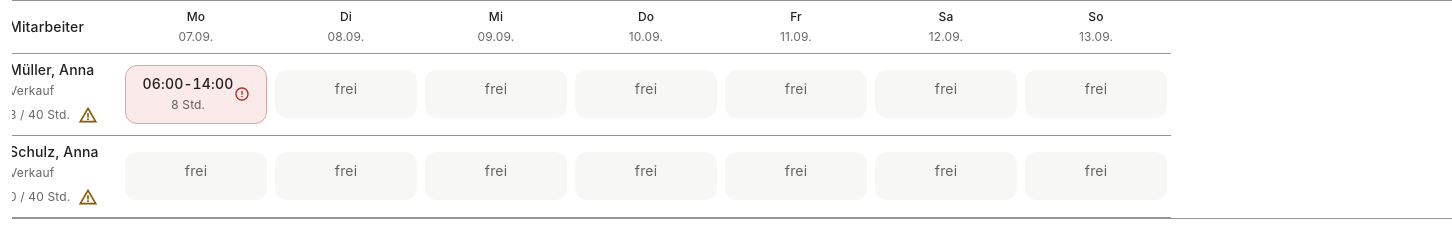
Scenario: ScheduleTable › shows a dedicated warning icon for a cell with a dated validation result, ignores week-level ones, and tapping it toggles the tooltip without also opening the c
This screenshot has width=1452, height=236.
Click the button named "Fehler anzeigen".
click(242, 94)  # box x1=220 y1=72 x2=264 y2=116
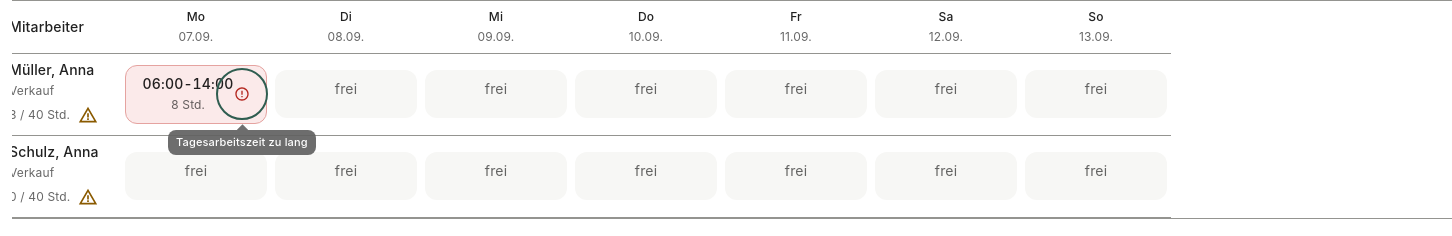
Check: the text "Tagesarbeitszeit zu lang" is shown, box x1=176 y1=134 x2=308 y2=150
A second tap on the same icon hides it again.
Click the button named "Fehler anzeigen".
click(242, 94)  # box x1=220 y1=72 x2=264 y2=116
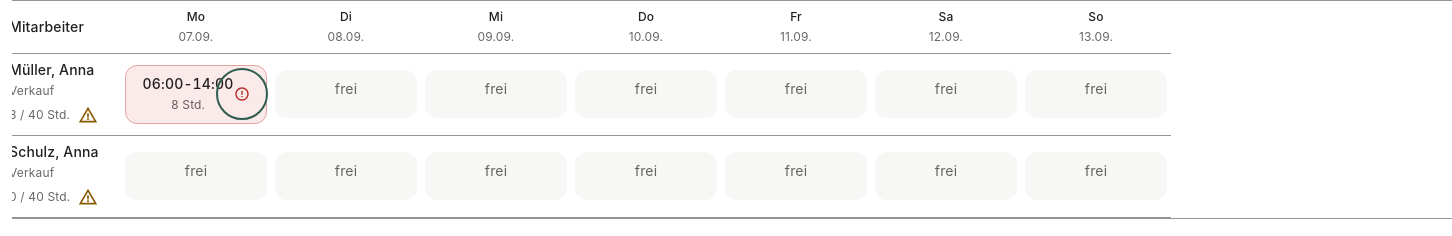
Check: the text "Tagesarbeitszeit zu lang" is gone
